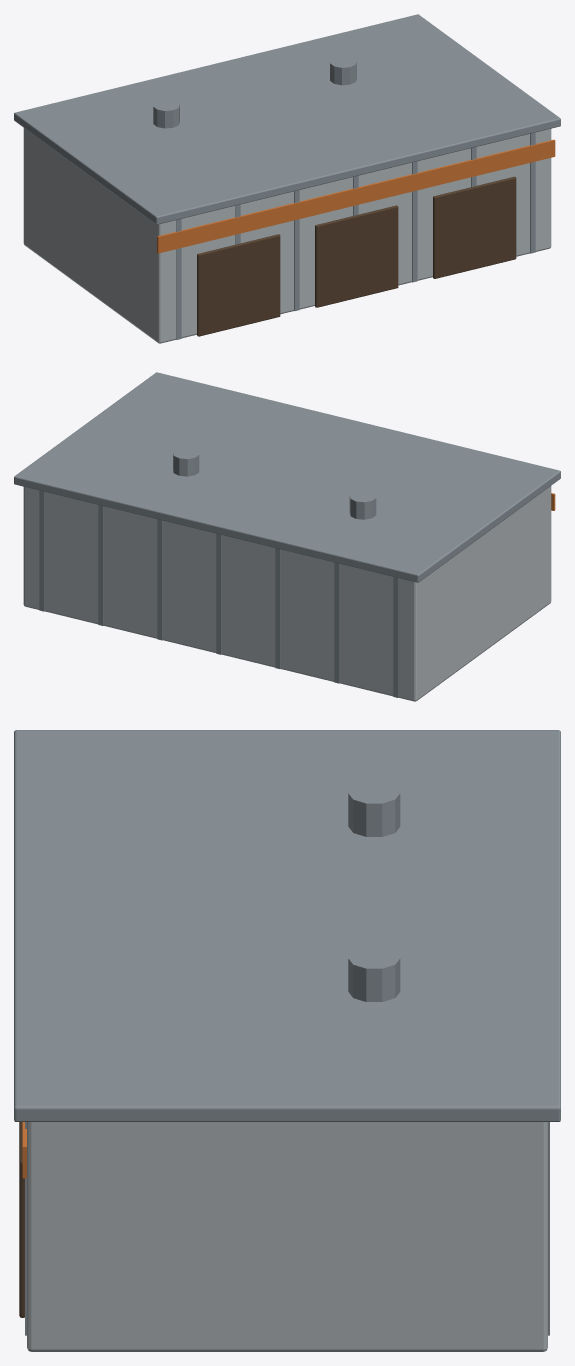
Rendered from warehouse.glb.
3 renders of one model, top to bottom at view 1: azimuth 30°, elevation 25°; view 2: azimuth 150°, elevation 25°; view 3: azimuth 270°, elevation 25°, orthographic. The views are drawn at different scales.
Visible parts, largest first — view 1: Cube; view 2: Cube; view 3: Cube.
Boxes of the visible parts, bbox=[...] form: Cube: bbox=[14, 14, 560, 343]; Cube: bbox=[14, 372, 560, 701]; Cube: bbox=[14, 730, 560, 1351].
Size of the model in its own units: 20.6 by 7.25 by 12.6.
